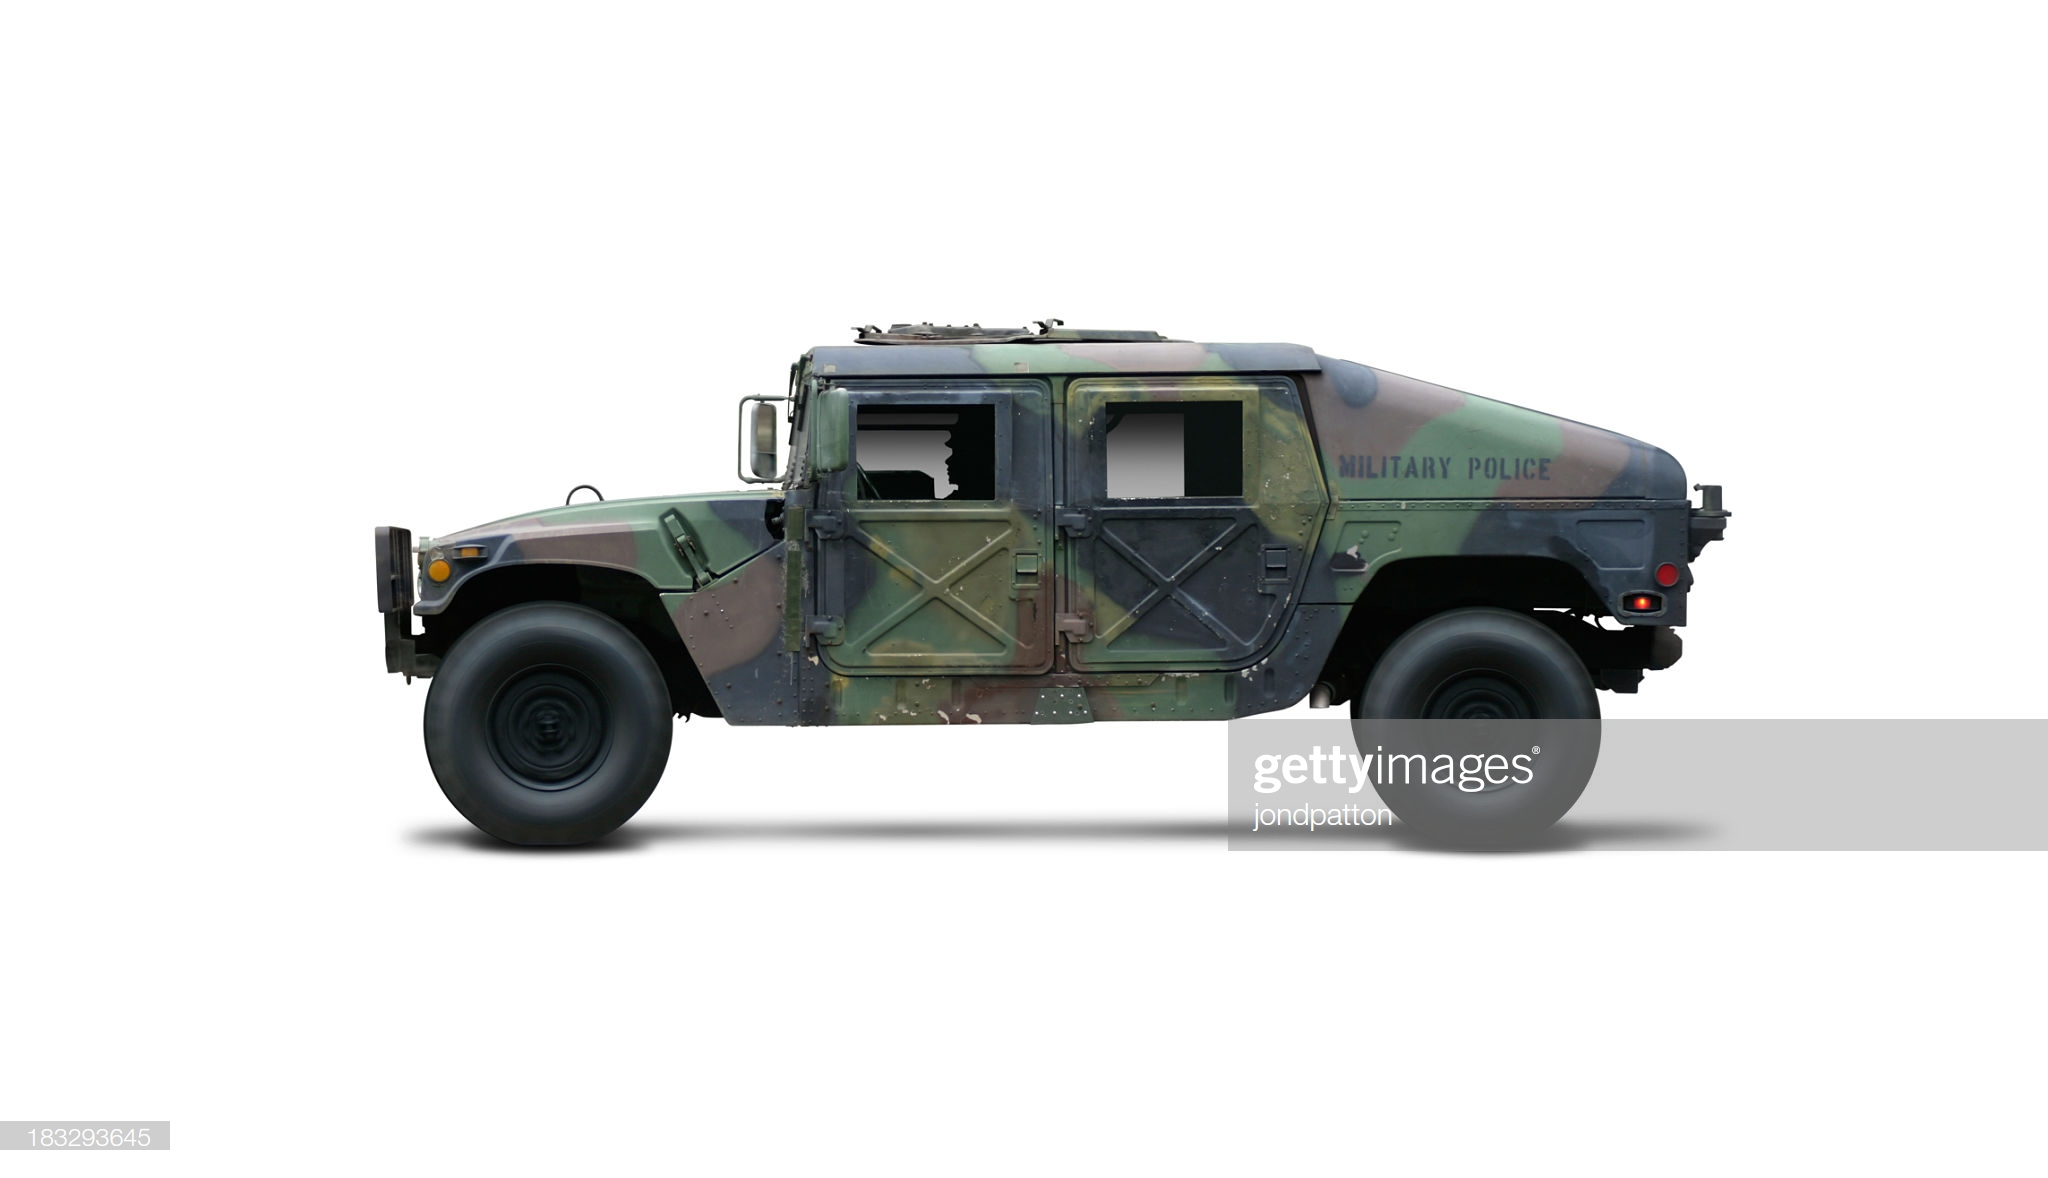hummer: (385, 307, 1696, 850)
